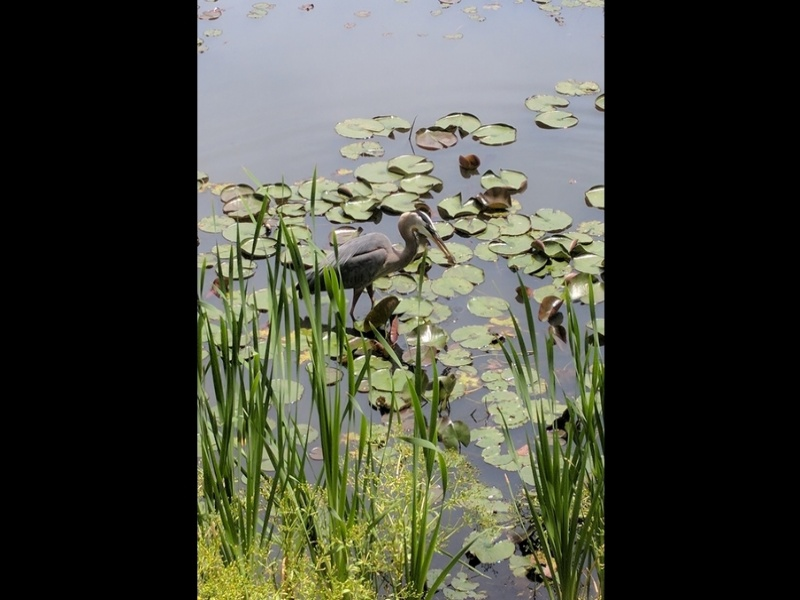heron: (293, 207, 453, 342)
